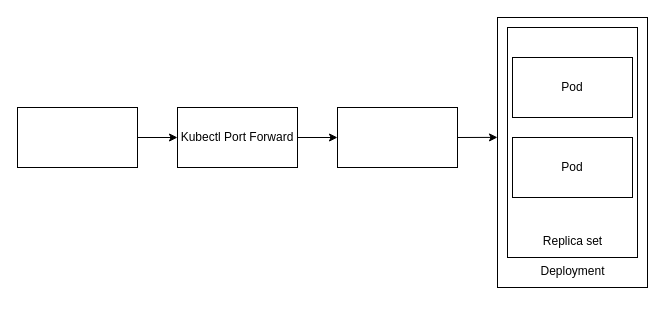
This 665x323 diagram has some shape labels left out. Each missing label, with the centre of its shape:
Expose Service: (x=397, y=137)
PC: (x=77, y=137)
